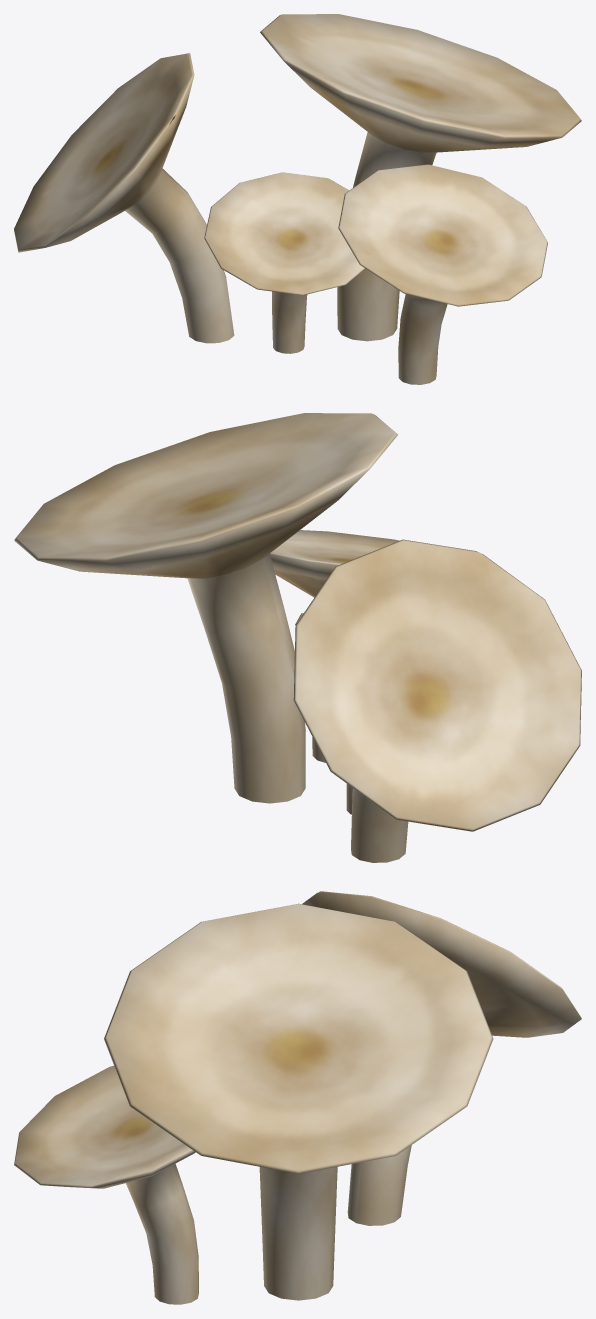
File: Pilze 1.fbx
3 views of the same model, one above another, from view 1: azimuth 30°, elevation 25°; view 2: azimuth 150°, elevation 25°; view 3: azimuth 270°, elevation 25° (orthographic). The views are drawn at different scales.
Parts seen in each view (by area): view 1: Cylinder.003; view 2: Cylinder.003; view 3: Cylinder.003.
Boxes of the visible parts, <box> form: Cylinder.003: <box>14,14,581,384</box>; Cylinder.003: <box>14,413,581,862</box>; Cylinder.003: <box>14,891,581,1304</box>.
Size of the model in its own units: 4.95 by 2.93 by 4.35.
